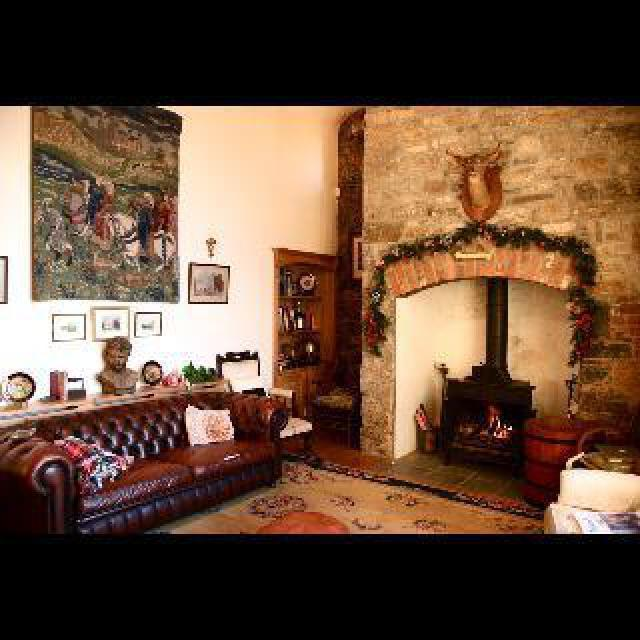Fire: (478, 408, 514, 434)
